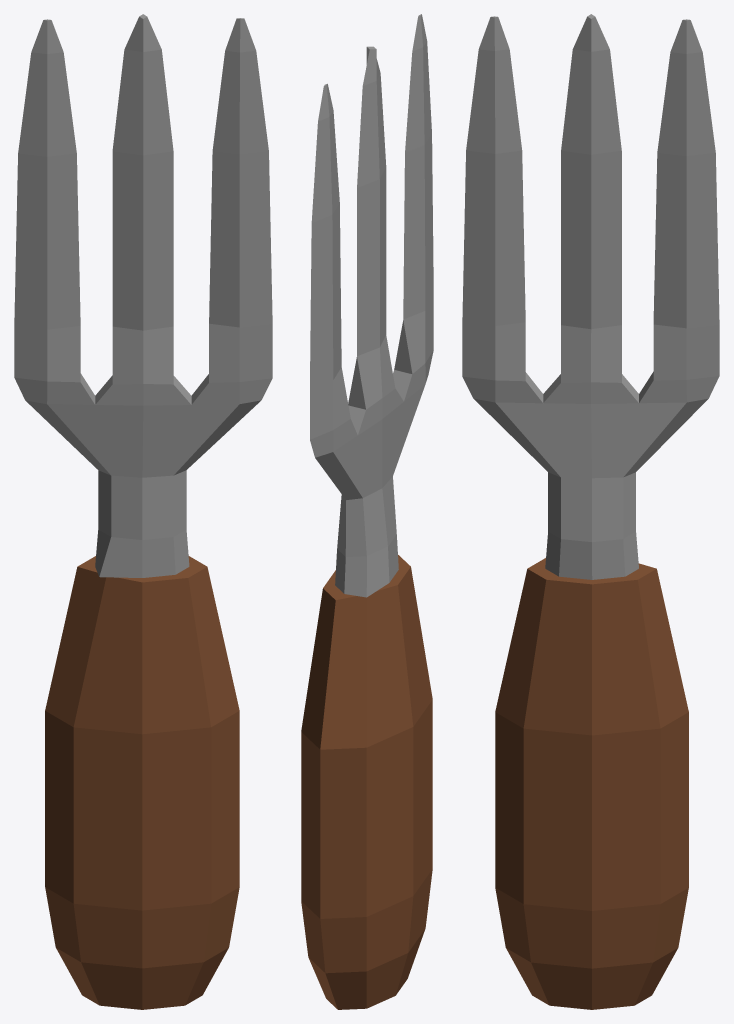
The model's file is gardeningfork01.obj.
3 views of the same model, side by side, from view 1: azimuth 90°, elevation 25°; view 2: azimuth 150°, elevation 25°; view 3: azimuth 270°, elevation 25° (orthographic). The views are drawn at different scales.
Visible parts, largest first — view 1: Cylinder; view 2: Cylinder; view 3: Cylinder.
Part boxes in pixels (left/top/right/bottom): Cylinder: left=14, top=14, right=272, bottom=1009; Cylinder: left=301, top=14, right=433, bottom=1009; Cylinder: left=462, top=14, right=719, bottom=1009.
Bounding box in the file's own units: 0.0265 × 0.2567 × 0.0613.
Materials: 1 (1 with a texture image).
